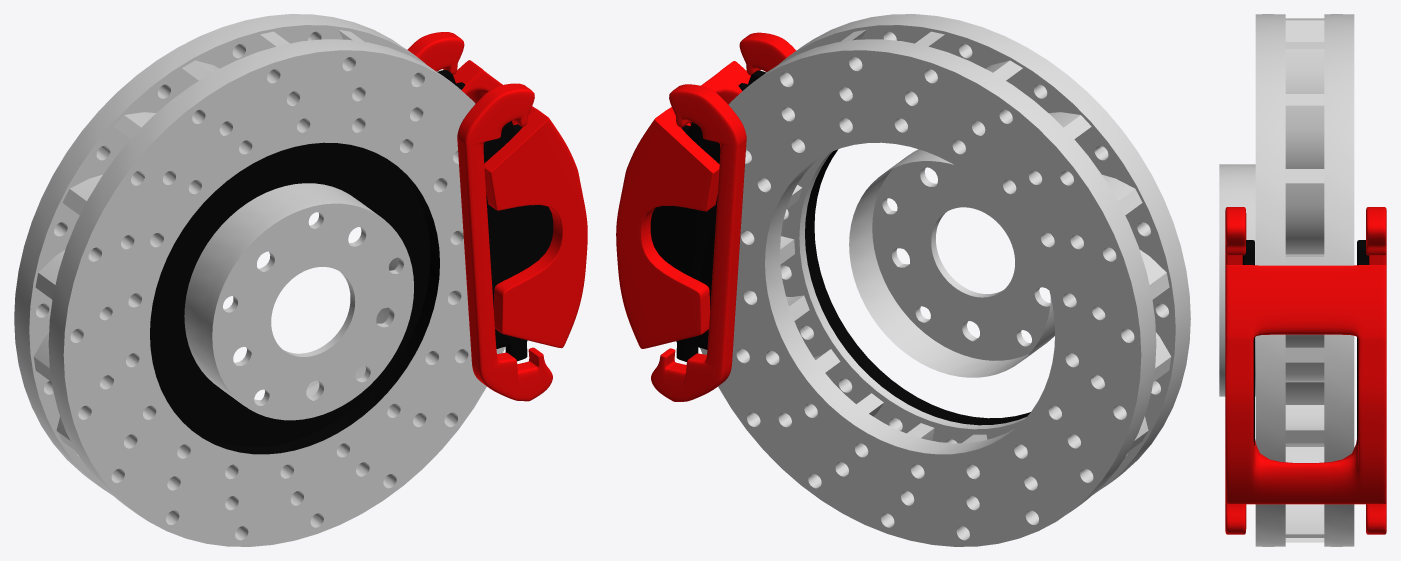
3 views of the same model, side by side, from view 1: azimuth 30°, elevation 25°; view 2: azimuth 150°, elevation 25°; view 3: azimuth 270°, elevation 25° (orthographic).
Visible parts, largest first — view 1: Disk, Caliper; view 2: Disk, Caliper; view 3: Disk, Caliper.
Boxes of the visible parts, <box> form: Disk: <box>14,14,505,546</box>; Caliper: <box>407,32,587,401</box>; Disk: <box>700,14,1190,546</box>; Caliper: <box>616,32,796,401</box>; Disk: <box>1219,14,1354,546</box>; Caliper: <box>1225,207,1386,534</box>.
Size of the model in its own units: 321 by 291 by 91.55.
